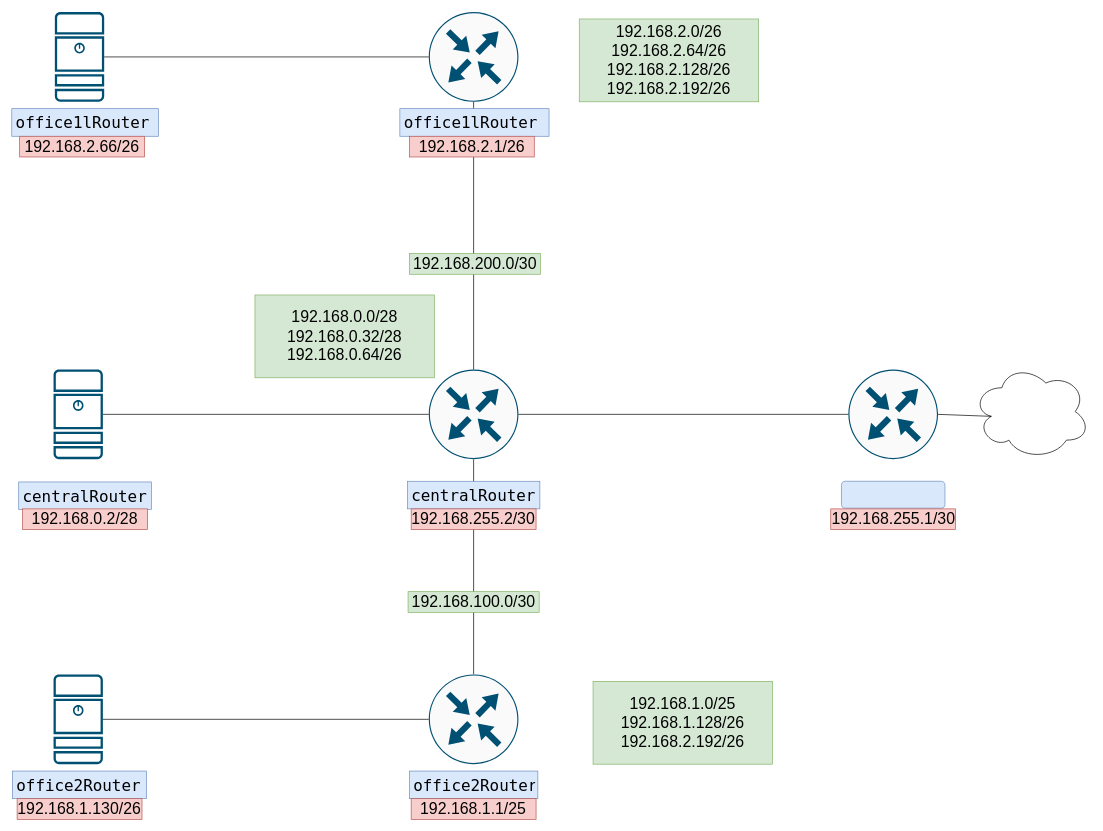
Some shapes in this 1103 by 831 pixel diagram are drawn without their labels. Here are the shapes that lost their labels. From the top down, the centre of each, then its label:
At point 1031,411: "internet".
At point 893,494: "inetRouter".
